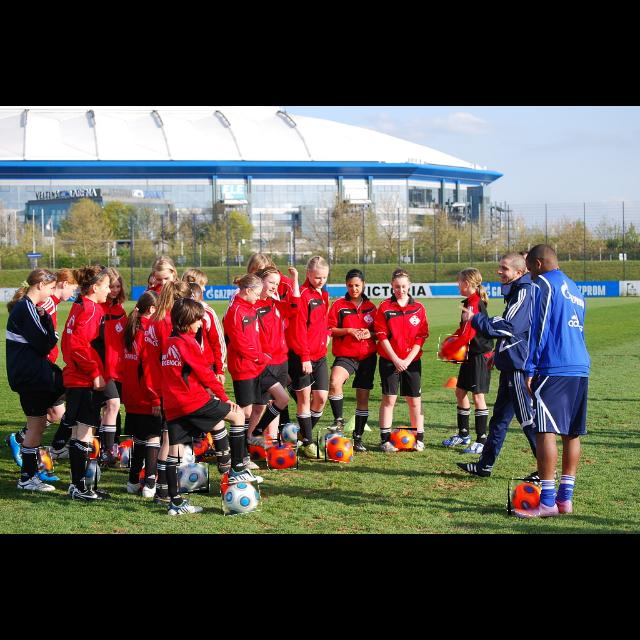Football: (221, 480, 261, 514), (508, 479, 540, 515), (177, 463, 209, 493), (266, 439, 298, 469), (438, 336, 470, 362), (317, 429, 343, 459), (325, 436, 353, 462), (250, 434, 274, 462), (389, 428, 417, 448), (37, 446, 53, 474), (279, 423, 297, 447), (85, 460, 97, 490), (118, 436, 134, 458), (178, 443, 194, 465), (88, 437, 100, 459), (120, 446, 130, 468), (192, 437, 204, 455)
